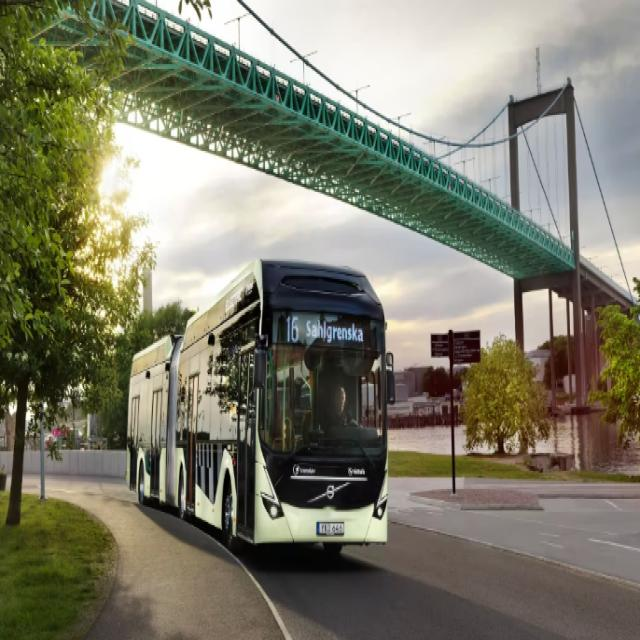Bus: (126, 259, 396, 552)
Tree: (0, 1, 153, 526)
